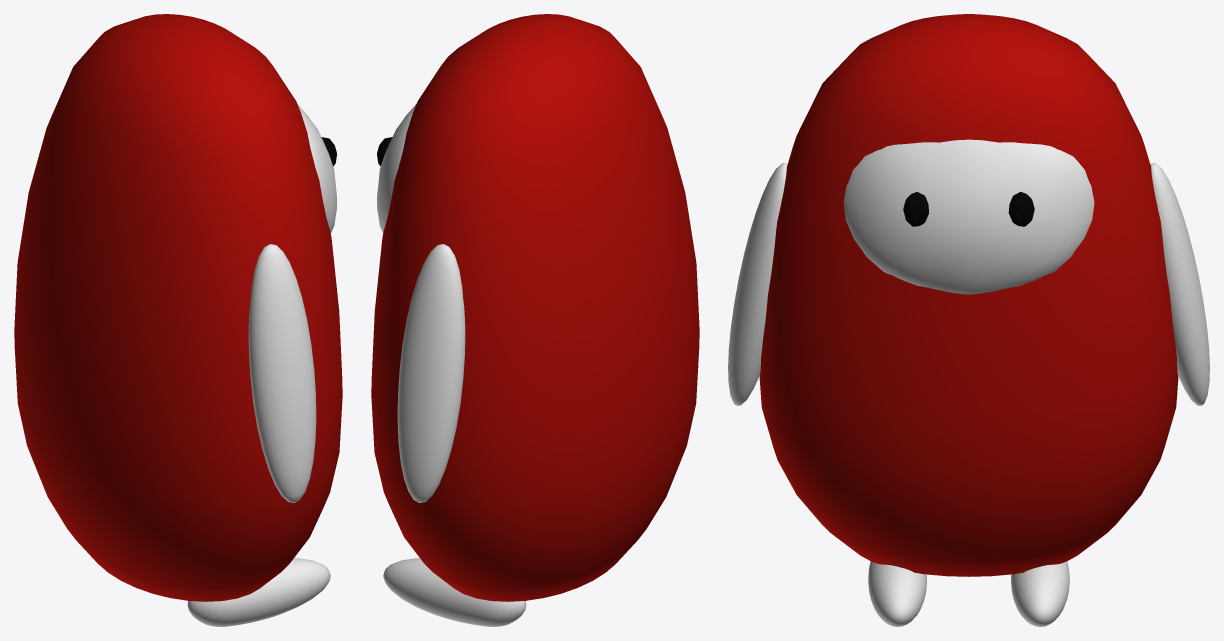
The model's file is MinionUV_R.fbx.
The picture shows the model from 3 angles, left to right: view 1: azimuth 30°, elevation 25°; view 2: azimuth 150°, elevation 25°; view 3: azimuth 270°, elevation 25°; orthographic projection.
Parts seen in each view (by area): view 1: Body, Right Arm, Right Foot, Face; view 2: Body, Left Arm, Left Foot, Face; view 3: Body, Face, Right Arm, Left Arm, Right Foot, Left Foot, Eyes.
Part boxes in pixels (x1,y1,x2,y2): Body: (14, 14, 342, 601); Right Arm: (248, 244, 316, 502); Right Foot: (187, 558, 330, 626); Face: (297, 104, 336, 232); Body: (371, 14, 699, 601); Left Arm: (397, 244, 465, 502); Left Foot: (383, 558, 526, 626); Face: (377, 104, 416, 232); Body: (759, 14, 1178, 576); Face: (843, 139, 1094, 294); Right Arm: (728, 163, 787, 405); Left Arm: (1150, 163, 1209, 405); Right Foot: (868, 561, 926, 626); Left Foot: (1011, 561, 1069, 626); Eyes: (903, 192, 1034, 226).
Size of the model in its own units: 65.24 by 137 by 105.
